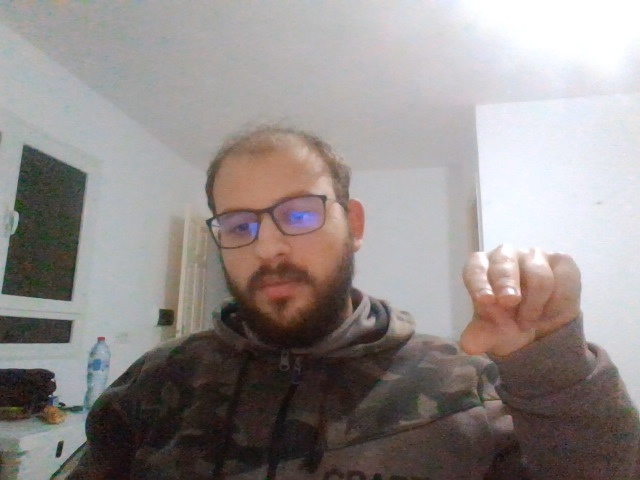No: (459, 251, 580, 360)
